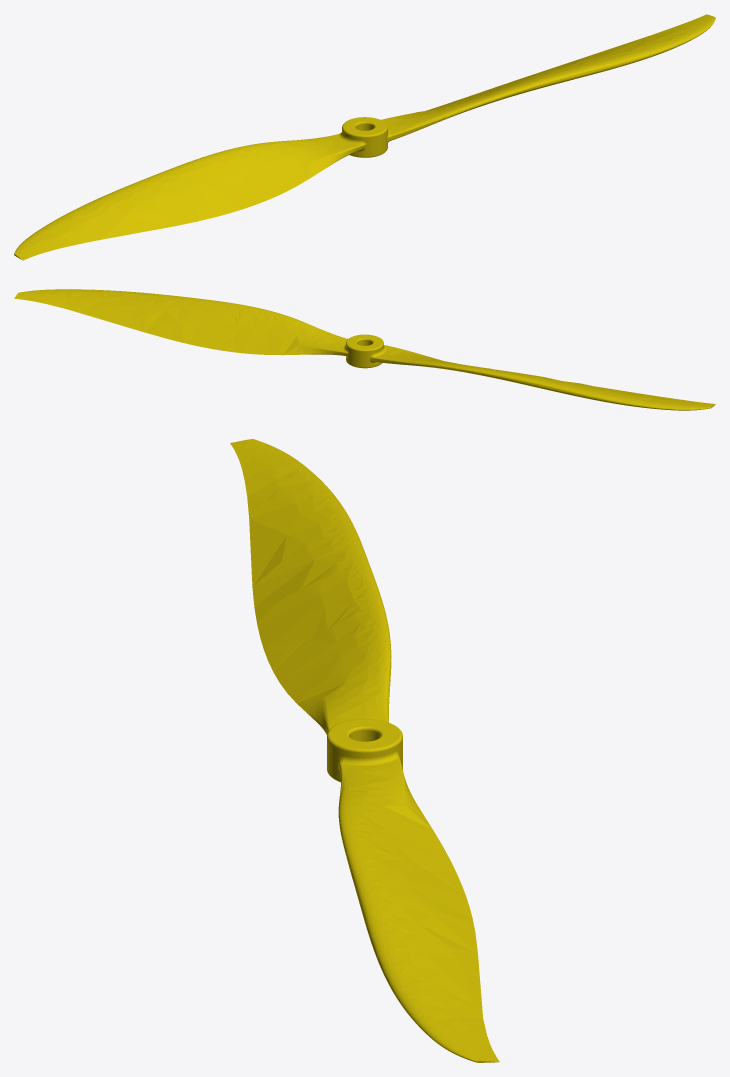
File: prop_br.dae
3 renders of one model, top to bottom at view 1: azimuth 30°, elevation 25°; view 2: azimuth 150°, elevation 25°; view 3: azimuth 270°, elevation 25°, orthographic. The views are drawn at different scales.
Parts seen in each view (by area): view 1: tmp_export_Part__Feature.008; view 2: tmp_export_Part__Feature.008; view 3: tmp_export_Part__Feature.008.
Part boxes in pixels (x1,y1,x2,y2): tmp_export_Part__Feature.008: [14, 14, 715, 260]; tmp_export_Part__Feature.008: [14, 289, 715, 410]; tmp_export_Part__Feature.008: [230, 439, 499, 1062].
Bounding box in the file's own units: 0.2512 × 0.0461 × 0.00876.
